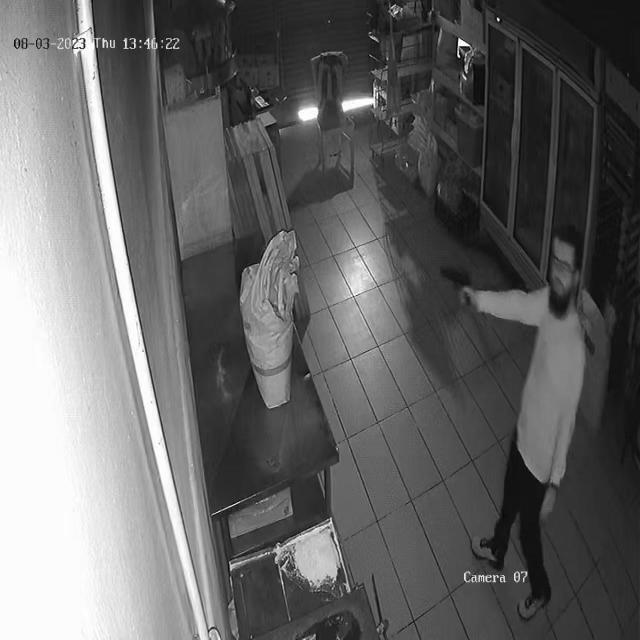Gun: (423, 258, 489, 316)
